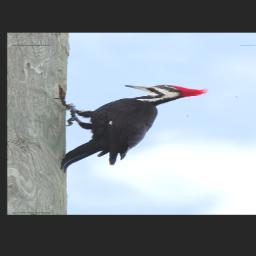Woodpecker: (54, 84, 209, 172)
